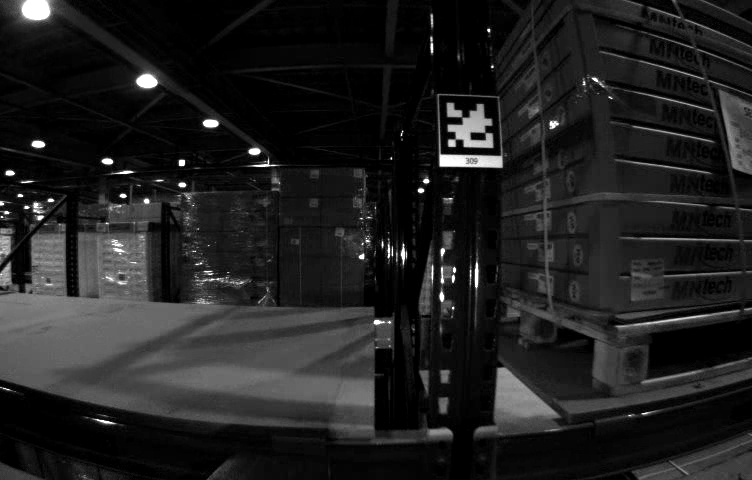True Barcode: (631, 260, 663, 300)
